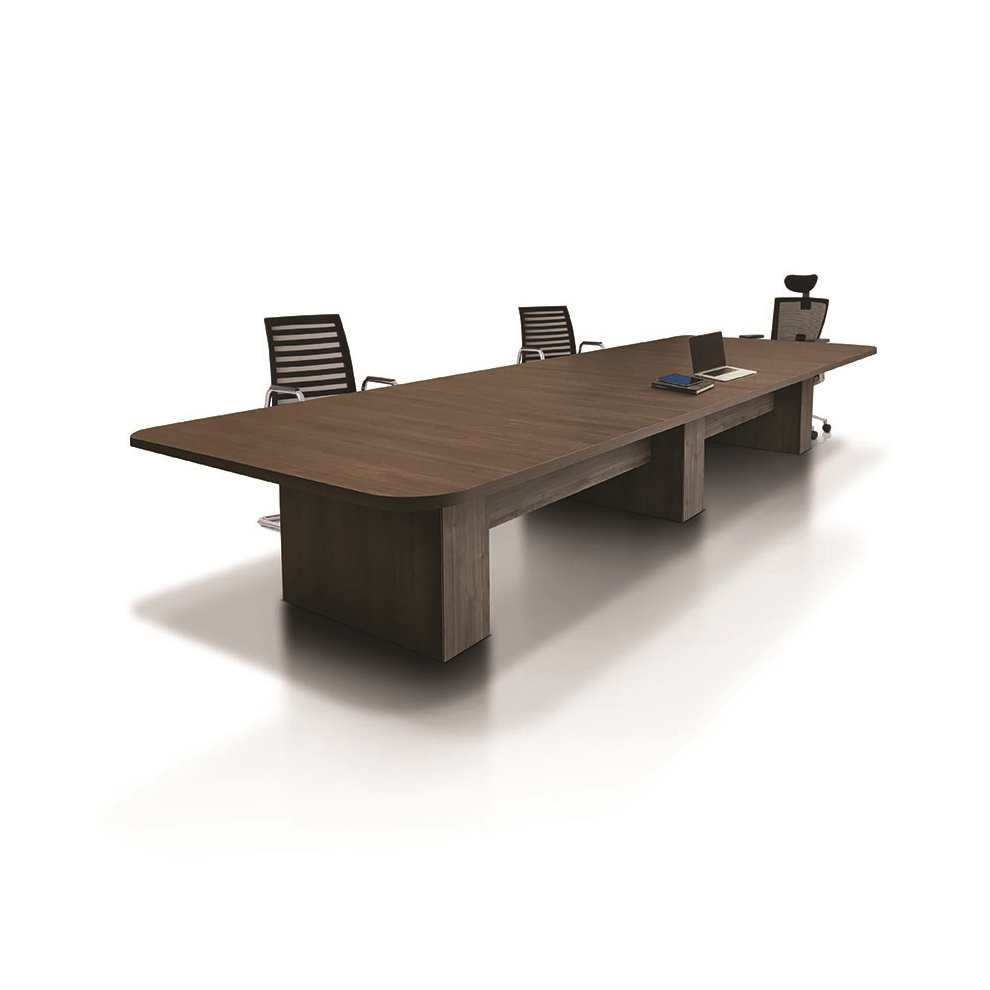conference_table: (130, 331, 878, 666)
